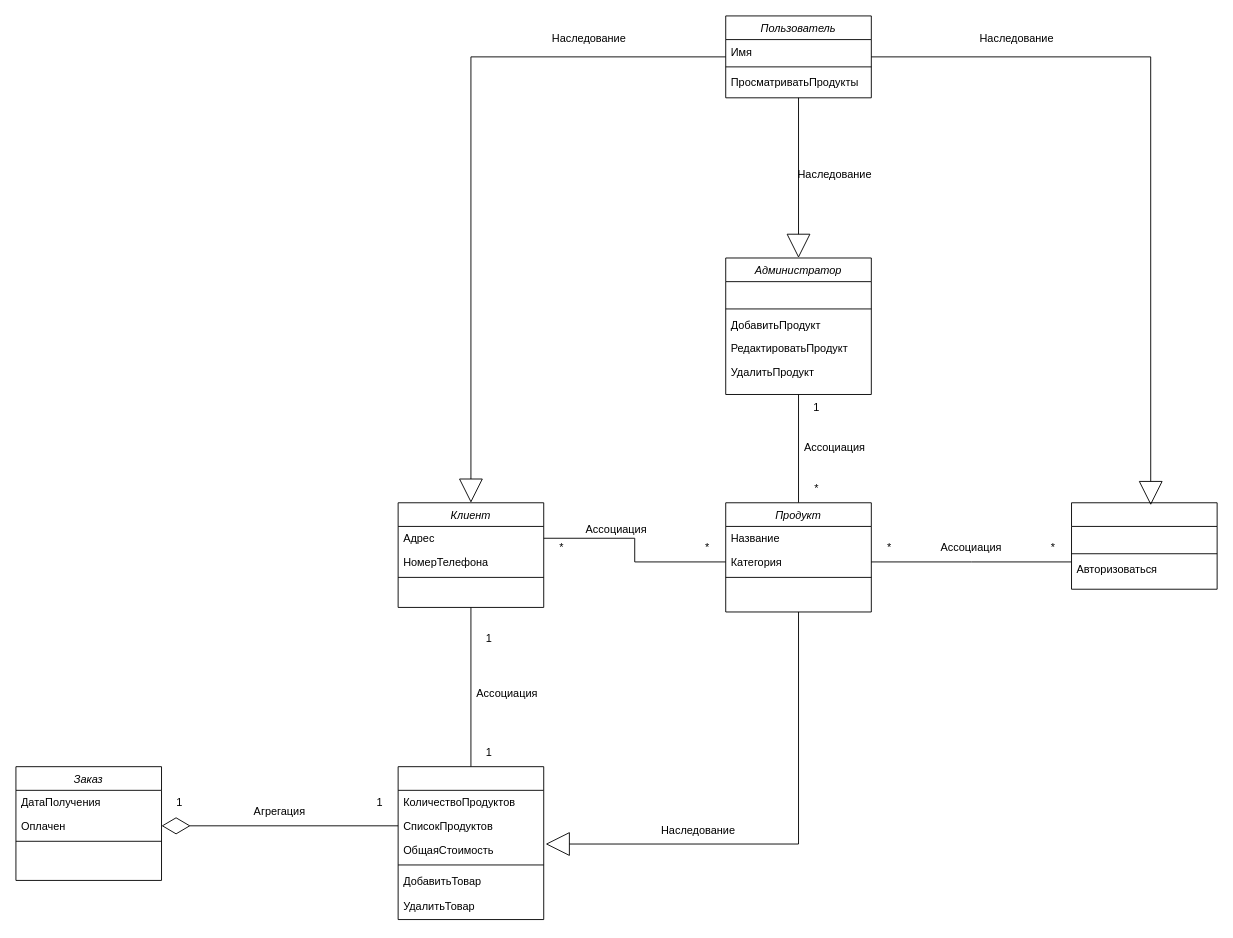
Some shapes in this 1233 by 938 pixel diagram are drawn without their labels. The box of each missing label's shape, as (x1, y1, x2, y2) in pixels:
Гость: (1071, 502, 1217, 589)
Корзина: (397, 766, 544, 920)
